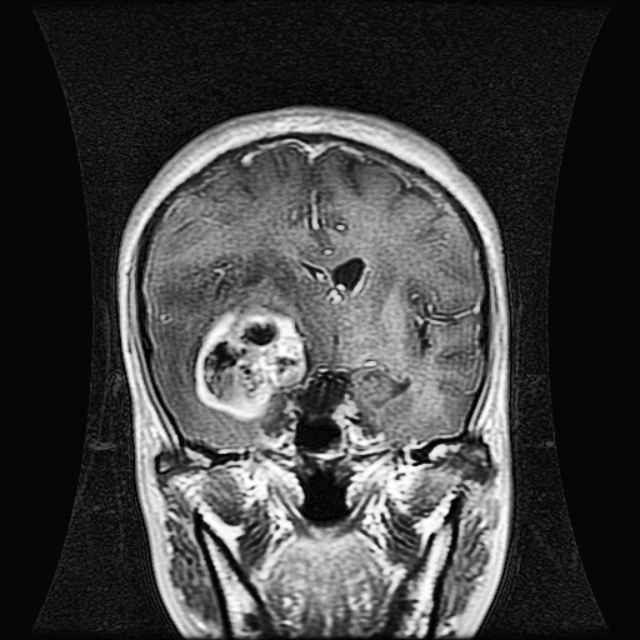Meningioma: (194, 300, 312, 423)
